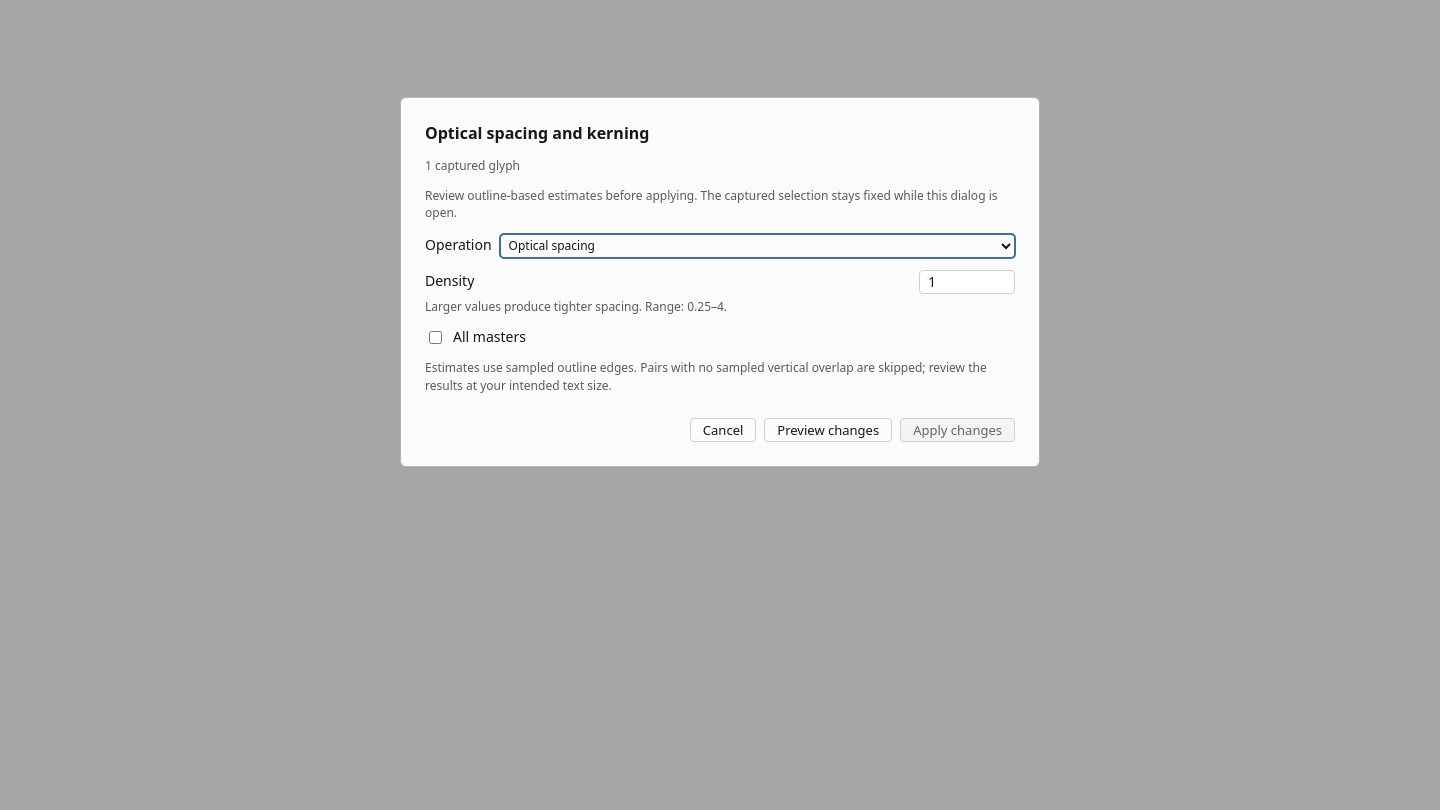
Test: reports a failed draft flush and makes no optical request
The image size is (1440, 810).
Click the button "Preview changes".
click(828, 430)  # box [764,418,892,442]
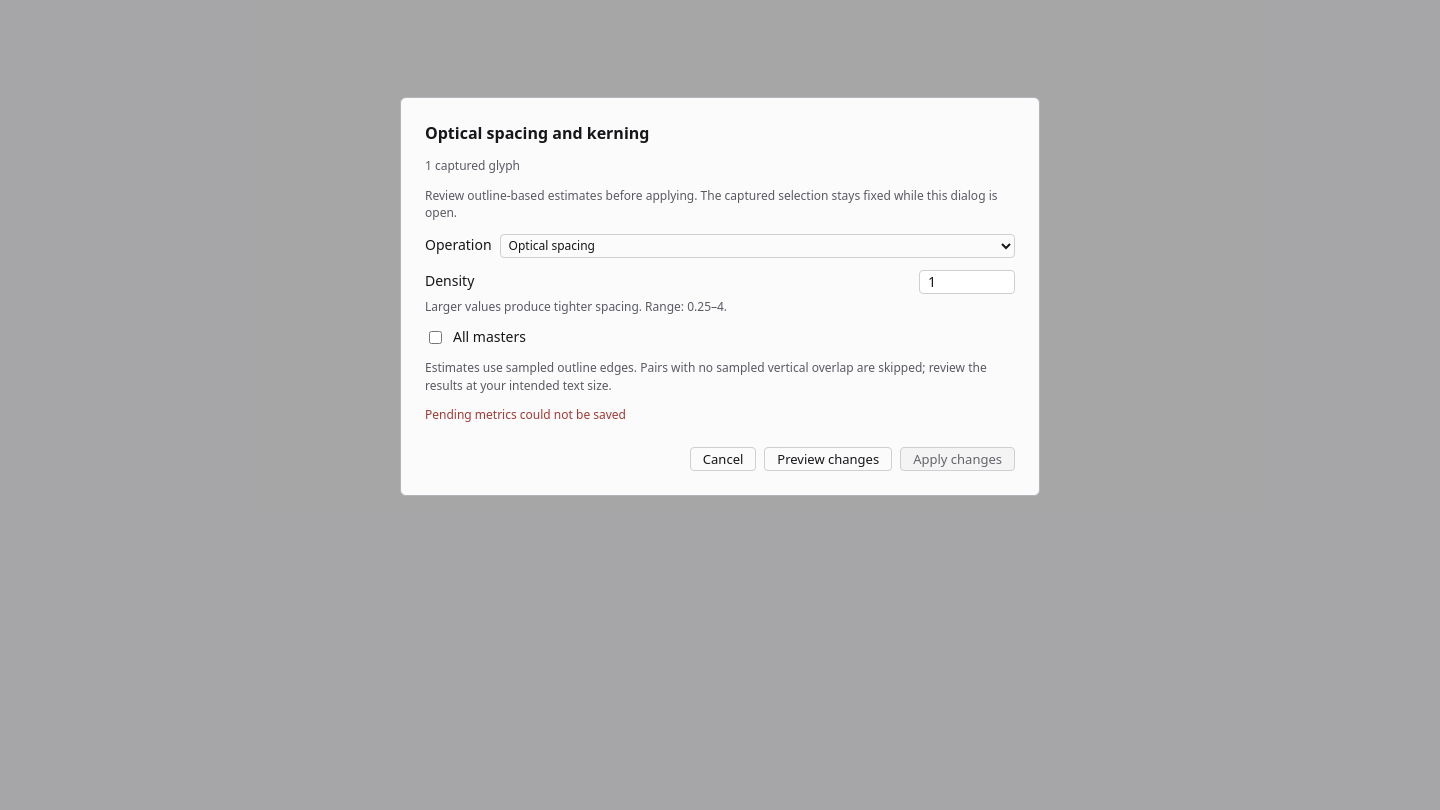
Expected: the button "Apply changes" is disabled, [900,447,1015,471]
Result: the message reads "Pending metrics could not be saved" at [425,406,626,423]
